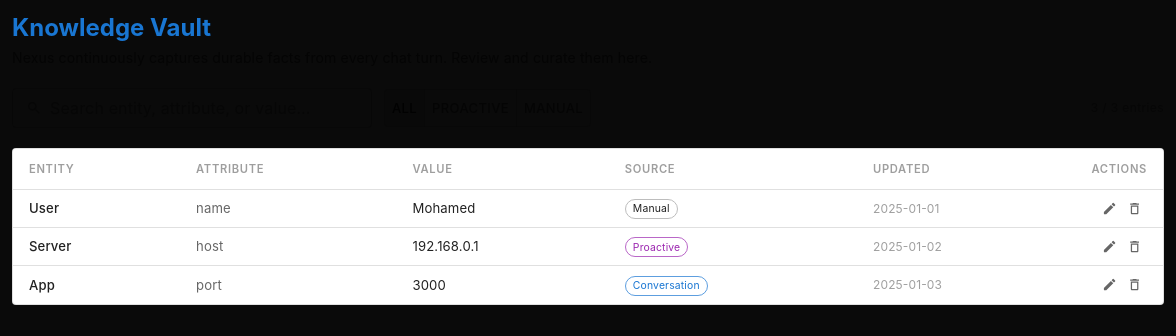
Test: KnowledgeVault — interactions › clicking Edit shows Save and Cancel buttons
The width and height of the screenshot is (1176, 336).
expect the text "Mohamed" is shown: met, box [412,200,476,216]
Click the button named "edit" in the row of "User".
click(1109, 209)  # box [1097,196,1122,221]
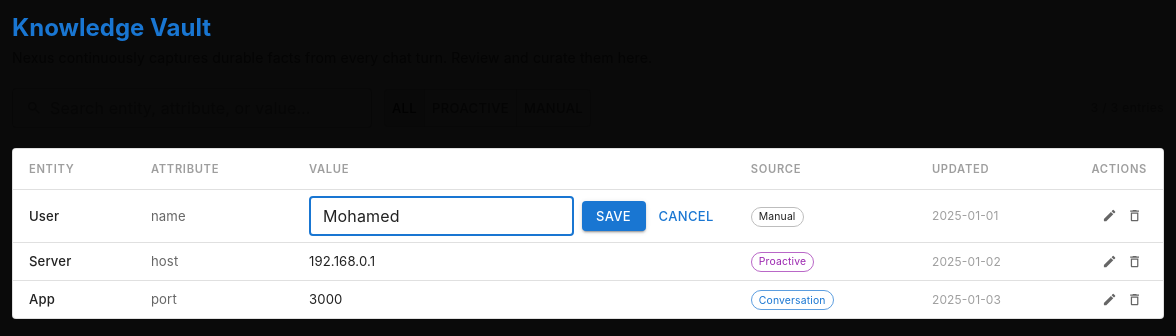
expect the button "Save" is shown: met, box [582,201,646,232]
expect the button "Cancel" is shown: met, box [654,201,719,232]
